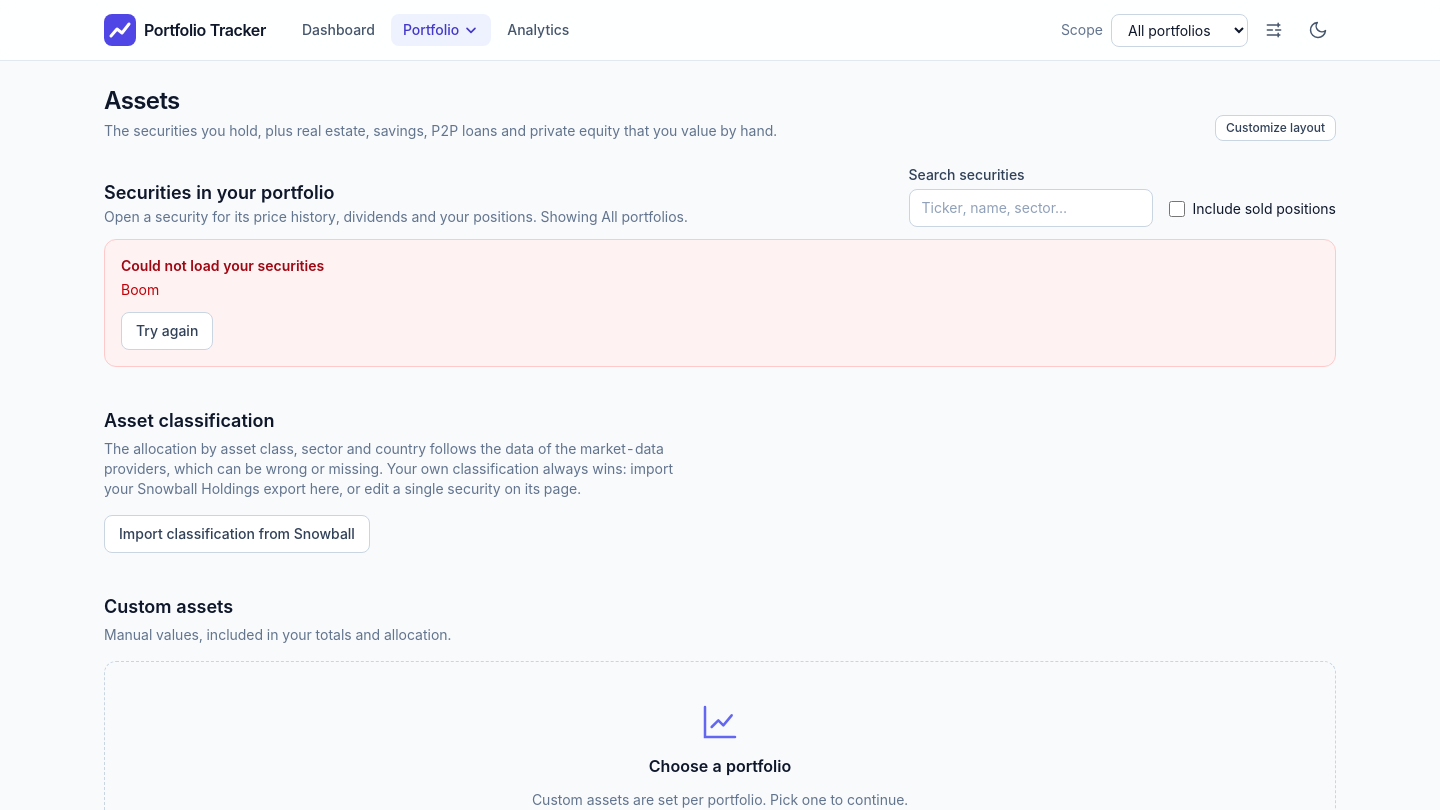
Test case: Securities in your portfolio › reports failures and retries
Expected: the text "Could not load your securities" is shown, [121,256,324,276]
Click the button "Try again": (167, 331) [121,312,213,350]
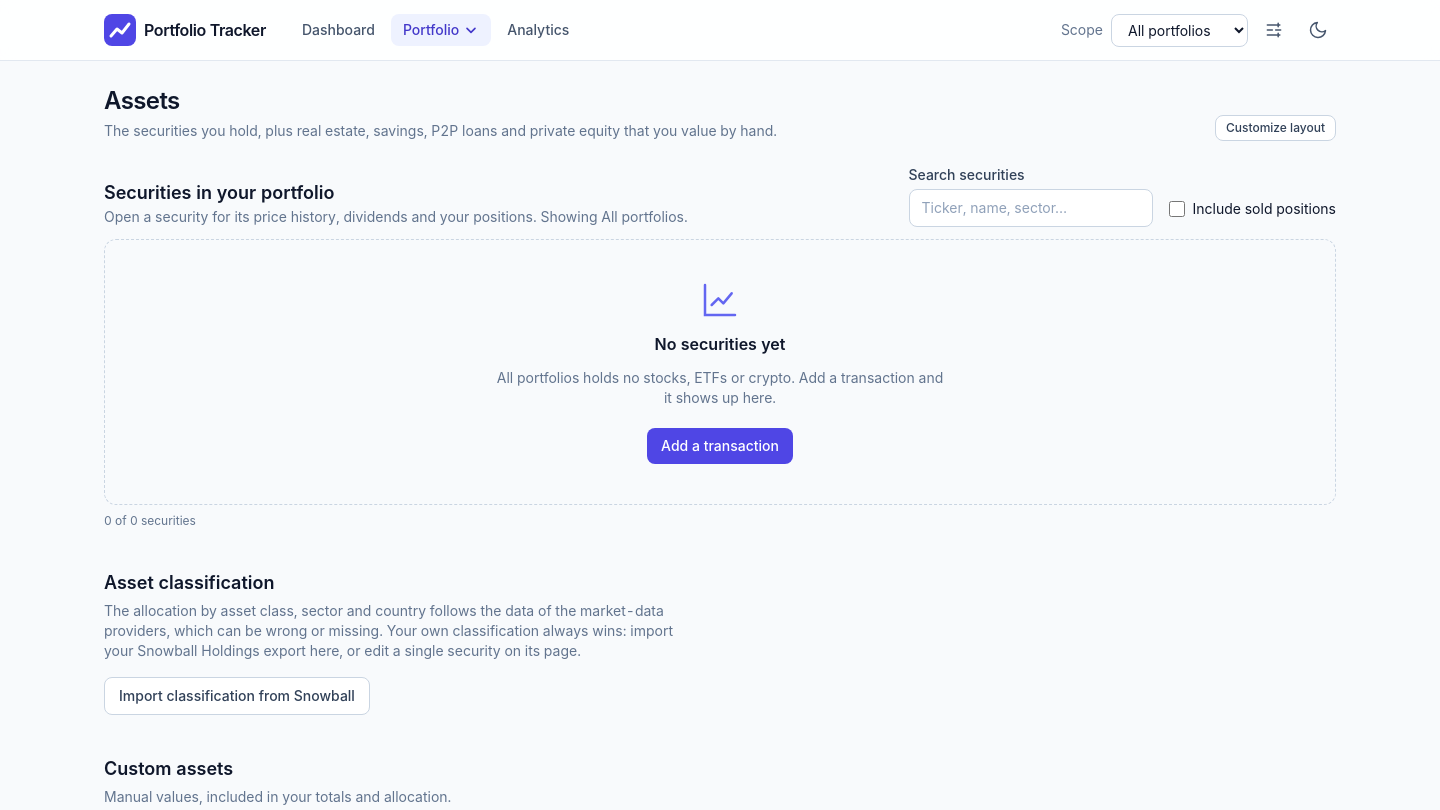
Expected: the heading "No securities yet" is shown, [655,332,785,356]
